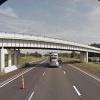Bridge: (2, 24, 97, 57)
